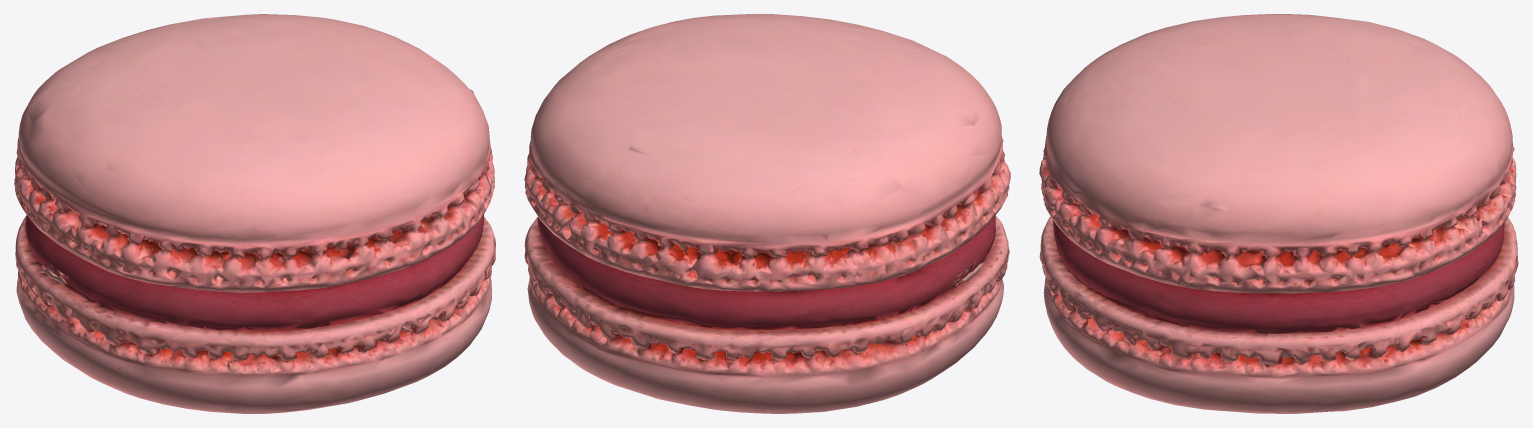
The model's file is bk-decor-macaron.glb.
The picture shows the model from 3 angles, left to right: view 1: azimuth 30°, elevation 25°; view 2: azimuth 150°, elevation 25°; view 3: azimuth 270°, elevation 25°; orthographic projection.
Visible parts, largest first — view 1: node_0; view 2: node_0; view 3: node_0.
Part boxes in pixels (left/top/right/bottom): node_0: left=14, top=14, right=495, bottom=413; node_0: left=524, top=14, right=1010, bottom=413; node_0: left=1039, top=14, right=1518, bottom=413.
Bounding box in the file's own units: 1.1 × 0.6822 × 1.11.
Materials: 1 (1 with a texture image).
